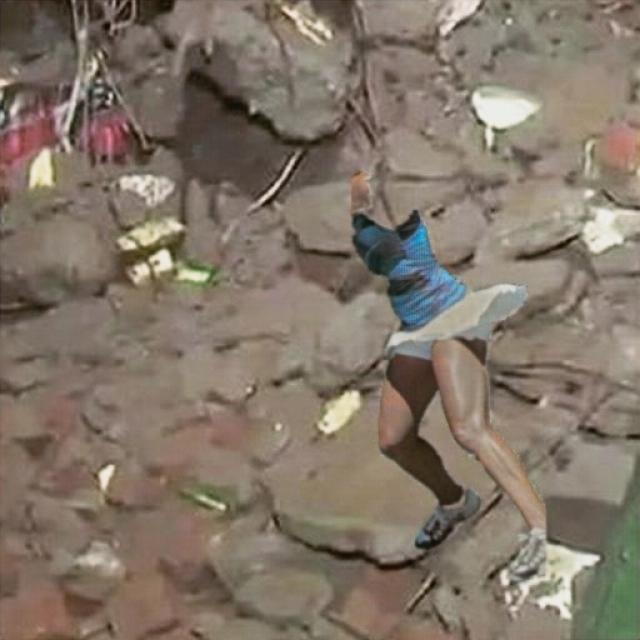Person in Rubble: (351, 171, 545, 584)
